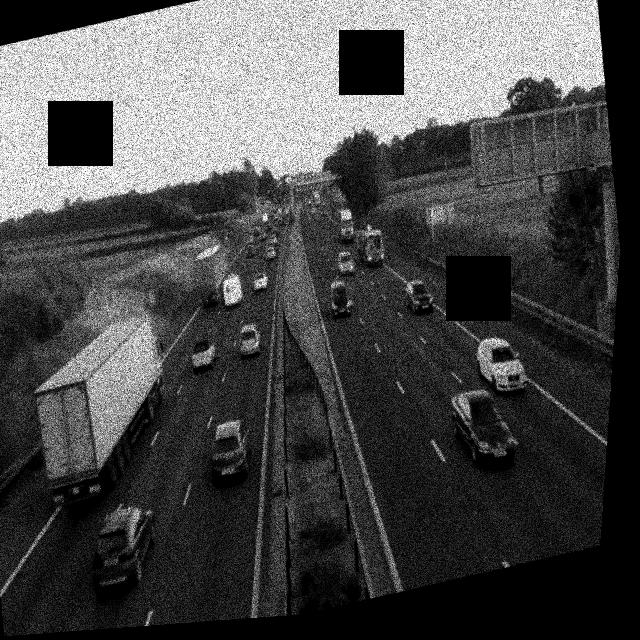car: (83, 500, 165, 594), (444, 378, 524, 474), (471, 330, 531, 398), (205, 417, 256, 484), (402, 276, 436, 318), (326, 277, 355, 320), (188, 334, 220, 372), (235, 323, 263, 358), (335, 251, 356, 278), (251, 270, 270, 294), (264, 243, 277, 261), (243, 244, 255, 259), (249, 228, 259, 241)
truck: (18, 313, 185, 510), (190, 244, 235, 311), (357, 222, 388, 267), (218, 273, 244, 308), (335, 210, 358, 246), (312, 190, 327, 211)
